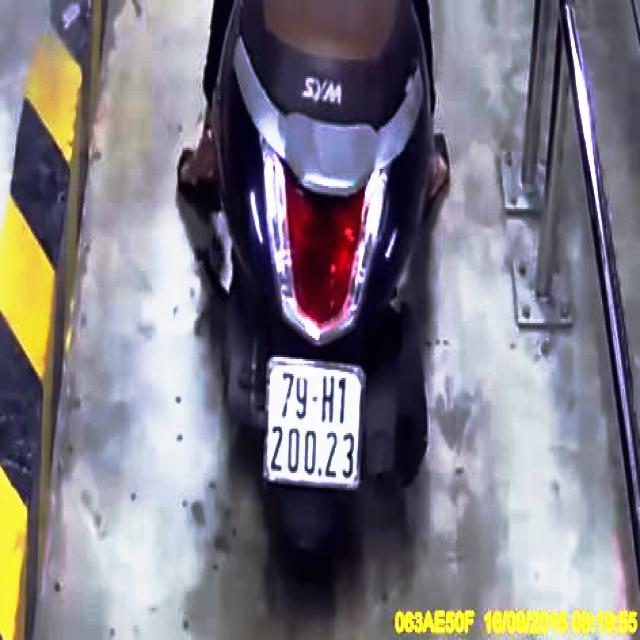license_plate: (266, 361, 365, 492)
